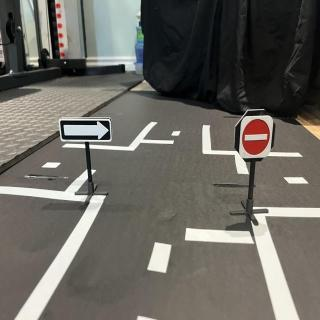sign_noentry: (241, 117, 273, 159)
sign_oneway_right: (60, 118, 114, 144)
